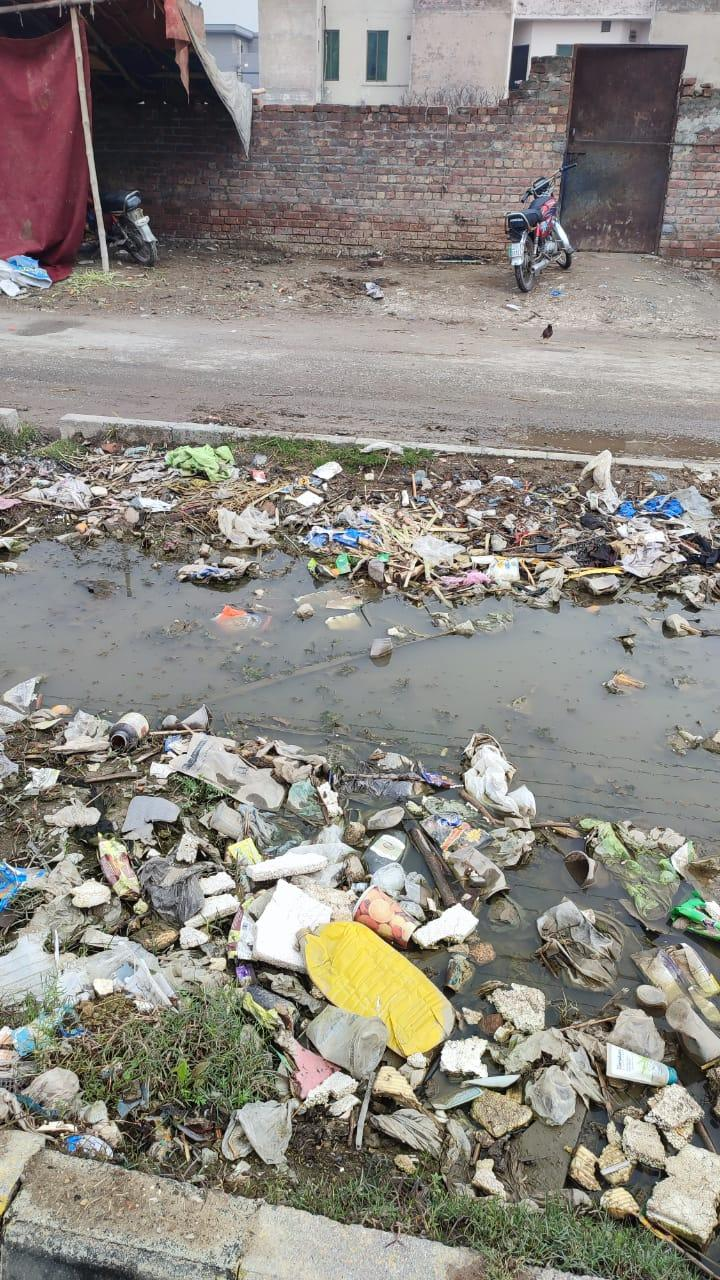garbage: (0, 415, 715, 1280)
